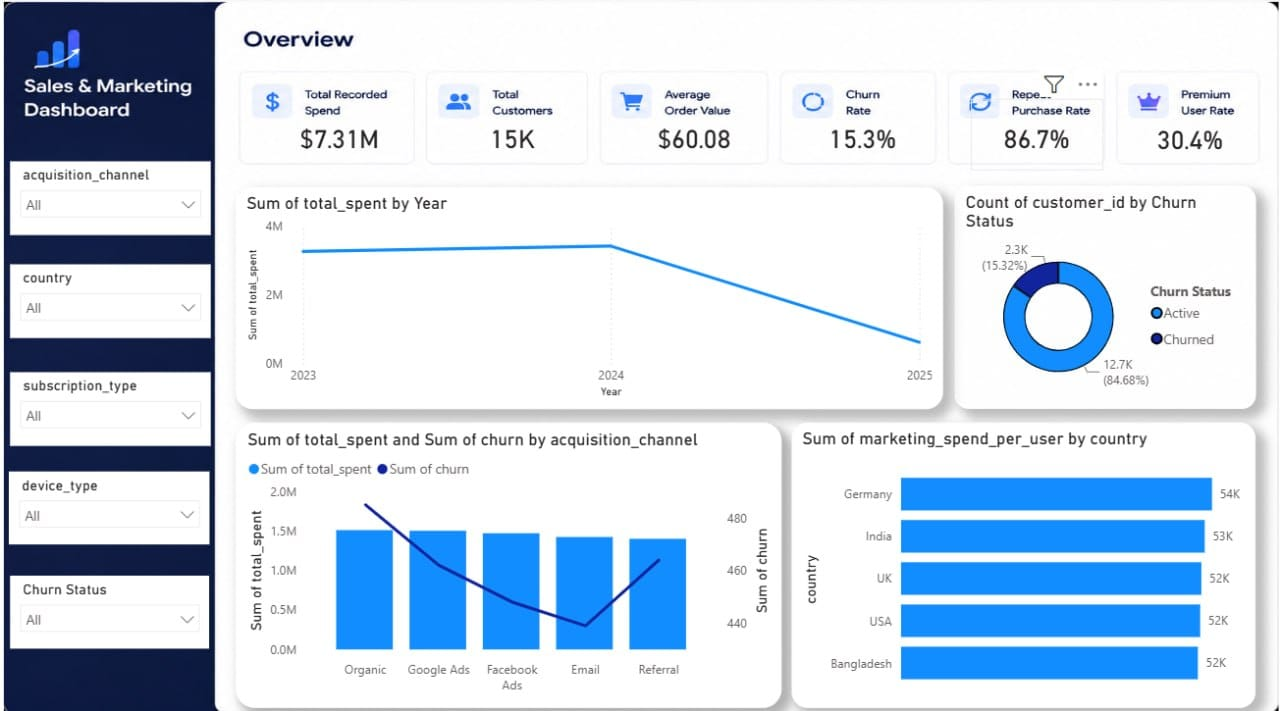

Layout of this report page (visuals, bound fields, positions):
{"tool":"powerbi","page":{"name":"Page 2","canvas":[1280,720],"ordinal":0},"visuals":[{"type":"image","box":[0,0,1280,720],"z":0},{"type":"cardVisual","fields":{"Data":["cleaned_marketing_customer_dataset (1).Total Recorded Spend"]},"box":[280,101.2,118.8,71.2],"z":1000},{"type":"cardVisual","fields":{"Data":["cleaned_marketing_customer_dataset (1).Total Customers"]},"box":[452.5,101.2,118.8,71.2],"z":2000},{"type":"cardVisual","fields":{"Data":["cleaned_marketing_customer_dataset (1).Avg Order Value"]},"box":[627.5,101.2,131.2,71.2],"z":3000},{"type":"cardVisual","fields":{"Data":["cleaned_marketing_customer_dataset (1).Churn Rate"]},"box":[788.8,101.2,143.8,71.2],"z":4000},{"type":"cardVisual","fields":{"Data":["cleaned_marketing_customer_dataset (1).Repeat Purchase Rate"]},"box":[968.8,101.2,131.2,71.2],"z":5000},{"type":"cardVisual","fields":{"Data":["cleaned_marketing_customer_dataset (1).Premium User Rate"]},"box":[1121.2,102.5,131.2,71.2],"z":6000},{"type":"lineChart","fields":{"Category":["cleaned_marketing_customer_dataset (1).purchase_month.Variation.Date Hierarchy.Year","cleaned_marketing_customer_dataset (1).purchase_month.Variation.Date Hierarchy.Quarter","cleaned_marketing_customer_dataset (1).purchase_month.Variation.Date Hierarchy.Month","cleaned_marketing_customer_dataset (1).purchase_month.Variation.Date Hierarchy.Day"],"Y":["Sum(cleaned_marketing_customer_dataset (1).total_spent)"]},"box":[236.2,190,705,221.2],"z":7000},{"type":"lineClusteredColumnComboChart","fields":{"Category":["cleaned_marketing_customer_dataset (1).acquisition_channel"],"Y":["Sum(cleaned_marketing_customer_dataset (1).total_spent)"],"Y2":["Sum(cleaned_marketing_customer_dataset (1).churn)"]},"box":[236.2,423.8,543.8,285],"z":8000},{"type":"donutChart","fields":{"Category":["cleaned_marketing_customer_dataset (1).Churn Status"],"Y":["Count(cleaned_marketing_customer_dataset (1).customer_id)"]},"box":[952.5,188.8,300,222.5],"z":9000},{"type":"clusteredBarChart","fields":{"Category":["cleaned_marketing_customer_dataset (1).country Hierarchy.country","cleaned_marketing_customer_dataset (1).country Hierarchy.city"],"Y":["Sum(cleaned_marketing_customer_dataset (1).marketing_spend_per_user)"]},"box":[790,423.8,462.5,285],"z":10000},{"type":"slicer","fields":{"Values":["cleaned_marketing_customer_dataset (1).acquisition_channel"]},"box":[11.2,163.8,200,73.8],"z":11000},{"type":"slicer","fields":{"Values":["cleaned_marketing_customer_dataset (1).country"]},"box":[11.2,266.2,200,73.8],"z":12000},{"type":"slicer","fields":{"Values":["cleaned_marketing_customer_dataset (1).subscription_type"]},"box":[11.2,373.8,200,73.8],"z":13000},{"type":"slicer","fields":{"Values":["cleaned_marketing_customer_dataset (1).device_type"]},"box":[10,473.8,200,72.5],"z":14000},{"type":"slicer","fields":{"Values":["cleaned_marketing_customer_dataset (1).Churn Status"]},"box":[11.2,577.5,198.8,72.5],"z":15000}]}

Visuals, with their boxes in screenshot pixels (x1, y1, x2, y2), scaled from the page's 1280x720 canvas onto the 1280x711 screenshot:
image: (left=0, top=0, right=1279, bottom=710)
cardVisual - cleaned_marketing_customer_dataset (1).Total Recorded Spend: (left=280, top=100, right=399, bottom=170)
cardVisual - cleaned_marketing_customer_dataset (1).Total Customers: (left=452, top=100, right=571, bottom=170)
cardVisual - cleaned_marketing_customer_dataset (1).Avg Order Value: (left=628, top=100, right=759, bottom=170)
cardVisual - cleaned_marketing_customer_dataset (1).Churn Rate: (left=789, top=100, right=933, bottom=170)
cardVisual - cleaned_marketing_customer_dataset (1).Repeat Purchase Rate: (left=969, top=100, right=1100, bottom=170)
cardVisual - cleaned_marketing_customer_dataset (1).Premium User Rate: (left=1121, top=101, right=1252, bottom=172)
lineChart - cleaned_marketing_customer_dataset (1).purchase_month.Variation.Date Hierarchy.Year x cleaned_marketing_customer_dataset (1).purchase_month.Variation.Date Hierarchy.Quarter: (left=236, top=188, right=941, bottom=406)
lineClusteredColumnComboChart - cleaned_marketing_customer_dataset (1).acquisition_channel x Sum(cleaned_marketing_customer_dataset (1).total_spent): (left=236, top=419, right=780, bottom=700)
donutChart - cleaned_marketing_customer_dataset (1).Churn Status x Count(cleaned_marketing_customer_dataset (1).customer_id): (left=952, top=186, right=1252, bottom=406)
clusteredBarChart - cleaned_marketing_customer_dataset (1).country Hierarchy.country x cleaned_marketing_customer_dataset (1).country Hierarchy.city: (left=790, top=419, right=1252, bottom=700)
slicer - cleaned_marketing_customer_dataset (1).acquisition_channel: (left=11, top=162, right=211, bottom=235)
slicer - cleaned_marketing_customer_dataset (1).country: (left=11, top=263, right=211, bottom=336)
slicer - cleaned_marketing_customer_dataset (1).subscription_type: (left=11, top=369, right=211, bottom=442)
slicer - cleaned_marketing_customer_dataset (1).device_type: (left=10, top=468, right=210, bottom=539)
slicer - cleaned_marketing_customer_dataset (1).Churn Status: (left=11, top=570, right=210, bottom=642)
